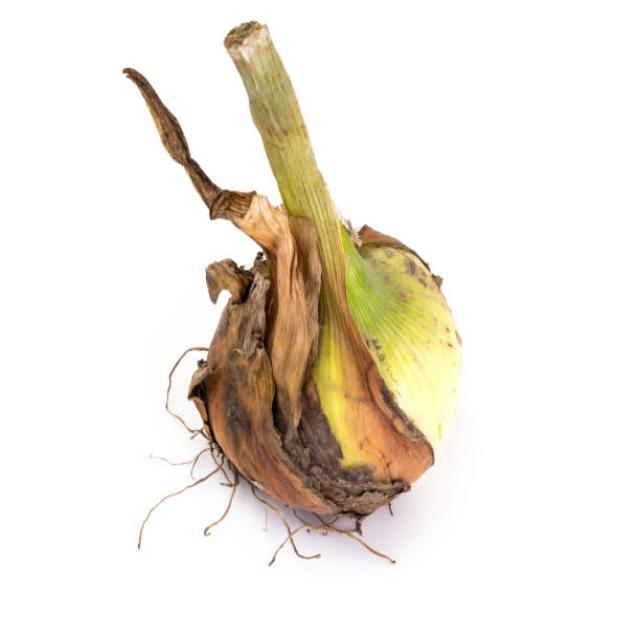sprouting: (123, 22, 461, 562)
